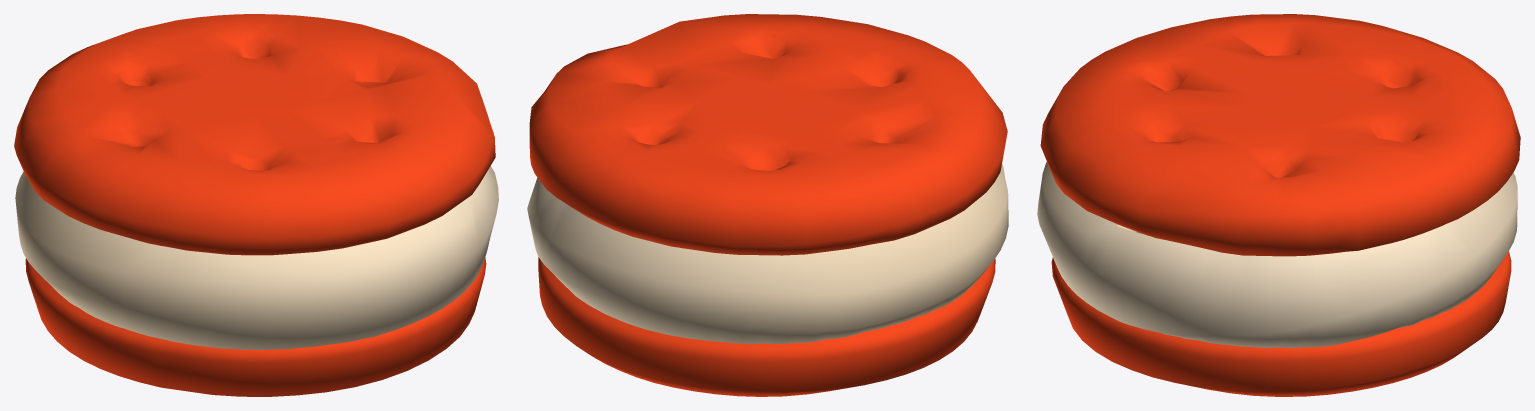
File: IceCream_0001_0022.fbx
3 views of the same model, side by side, from view 1: azimuth 30°, elevation 25°; view 2: azimuth 150°, elevation 25°; view 3: azimuth 270°, elevation 25° (orthographic).
Parts seen in each view (by area): view 1: Ice_0001_0022; view 2: Ice_0001_0022; view 3: Ice_0001_0022.
Part boxes in pixels (x1,y1,x2,y2): Ice_0001_0022: (14,14,498,396); Ice_0001_0022: (527,14,1008,396); Ice_0001_0022: (1037,14,1520,396).
Size of the model in its own units: 0.1043 by 0.0505 by 0.1045.
Materials: 1 (1 with a texture image).
